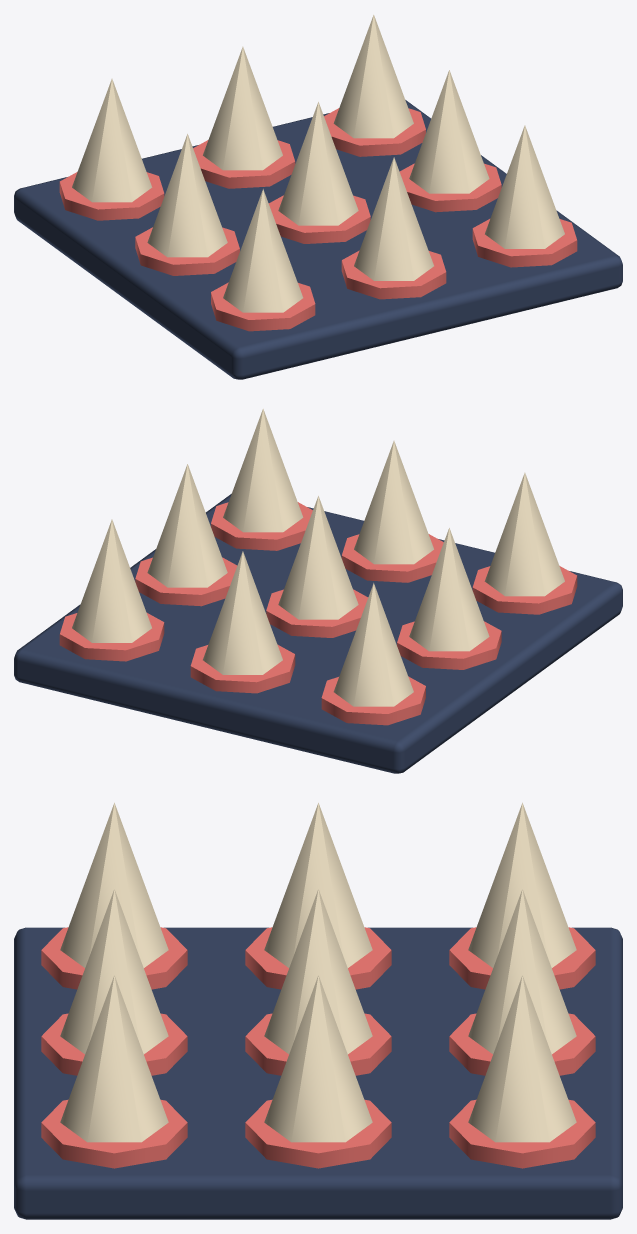
Rendered from spike-tile.glb.
3 renders of one model, top to bottom at view 1: azimuth 30°, elevation 25°; view 2: azimuth 150°, elevation 25°; view 3: azimuth 270°, elevation 25°, orthographic. The views are drawn at different scales.
Parts seen in each view (by area): view 1: base, spike--0.67--0.67, spike-0--0.67, spike-0.67--0.67, spike--0.67-0, spike-0-0, spike-0.67-0, spike--0.67-0.67, spike-0-0.67, spike-0.67-0.67, socket--0.67-0.67, socket-0.67-0.67 (+7 smaller); view 2: base, spike--0.67-0.67, spike-0-0.67, spike-0.67-0.67, spike--0.67-0, spike-0-0, spike-0.67-0, spike--0.67--0.67, spike-0--0.67, spike-0.67--0.67, socket--0.67--0.67, socket-0.67--0.67 (+7 smaller); view 3: base, spike-0.67-0, spike-0.67--0.67, spike-0.67-0.67, spike-0-0, spike--0.67-0, spike--0.67--0.67, spike--0.67-0.67, spike-0--0.67, spike-0-0.67, socket-0.67--0.67, socket-0.67-0.67 (+7 smaller).
Part boxes in pixels (left/top/right/bottom): base: left=14, top=100, right=622, bottom=379; spike--0.67--0.67: left=72, top=78, right=152, bottom=202; spike-0--0.67: left=203, top=46, right=282, bottom=170; spike-0.67--0.67: left=333, top=14, right=413, bottom=138; spike--0.67-0: left=147, top=134, right=227, bottom=257; spike-0-0: left=278, top=101, right=358, bottom=225; spike-0.67-0: left=409, top=70, right=489, bottom=193; spike--0.67-0.67: left=223, top=189, right=303, bottom=312; spike-0-0.67: left=354, top=157, right=433, bottom=280; spike-0.67-0.67: left=485, top=125, right=564, bottom=248; socket--0.67-0.67: left=211, top=282, right=315, bottom=331; socket-0.67-0.67: left=472, top=219, right=577, bottom=267; base: left=14, top=494, right=622, bottom=773; spike--0.67-0.67: left=484, top=472, right=564, bottom=596; spike-0-0.67: left=354, top=440, right=433, bottom=564; spike-0.67-0.67: left=223, top=408, right=303, bottom=532; spike--0.67-0: left=409, top=528, right=489, bottom=651; spike-0-0: left=278, top=495, right=358, bottom=619; spike-0.67-0: left=147, top=464, right=227, bottom=587; spike--0.67--0.67: left=333, top=583, right=413, bottom=706; spike-0--0.67: left=203, top=551, right=282, bottom=674; spike-0.67--0.67: left=72, top=519, right=151, bottom=642; socket--0.67--0.67: left=321, top=676, right=425, bottom=725; socket-0.67--0.67: left=59, top=613, right=164, bottom=661; base: left=14, top=927, right=622, bottom=1219; spike-0.67-0: left=264, top=975, right=372, bottom=1142; spike-0.67--0.67: left=468, top=975, right=576, bottom=1142; spike-0.67-0.67: left=60, top=975, right=168, bottom=1142; spike-0-0: left=264, top=889, right=372, bottom=1054; spike--0.67-0: left=264, top=802, right=372, bottom=967; spike--0.67--0.67: left=468, top=802, right=576, bottom=967; spike--0.67-0.67: left=60, top=802, right=168, bottom=967; spike-0--0.67: left=468, top=889, right=576, bottom=1054; spike-0-0.67: left=60, top=889, right=168, bottom=1054; socket-0.67--0.67: left=449, top=1099, right=595, bottom=1168; socket-0.67-0.67: left=41, top=1099, right=187, bottom=1168.
Bounding box in the file's own units: 2 × 0.75 × 2.
